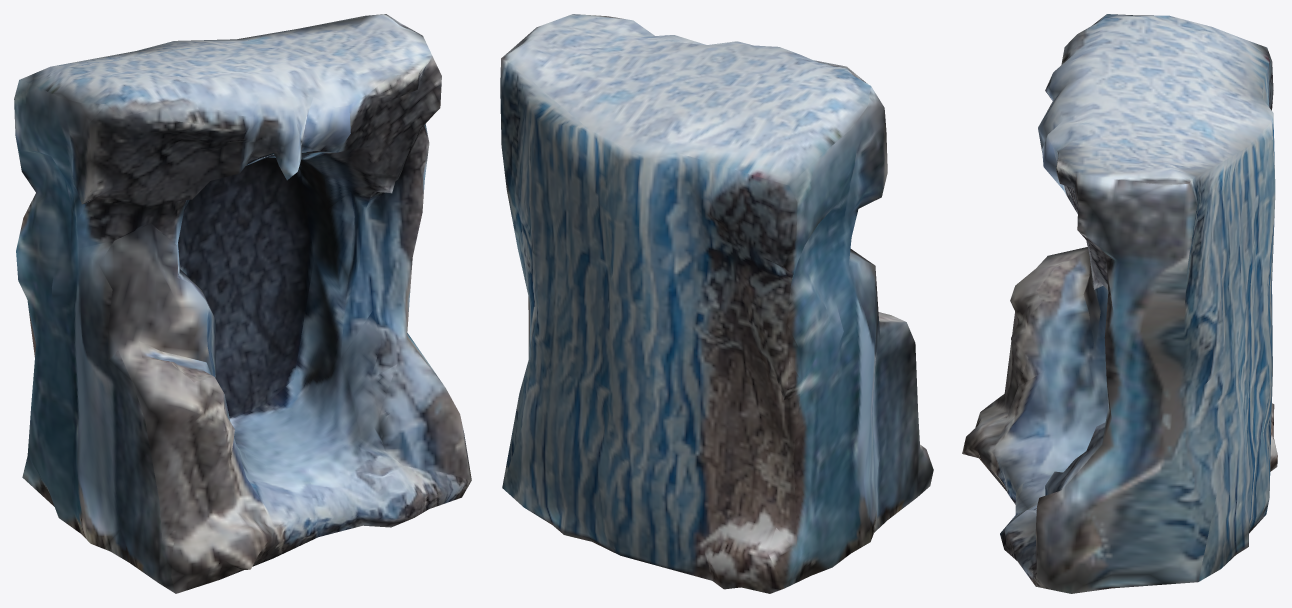
Rendered from FrozenCave_Wall.fbx.
3 renders of one model, left to right at view 1: azimuth 30°, elevation 25°; view 2: azimuth 150°, elevation 25°; view 3: azimuth 270°, elevation 25°, orthographic. The views are drawn at different scales.
Parts seen in each view (by area): view 1: FrozenCave_Wall_Mesh; view 2: FrozenCave_Wall_Mesh; view 3: FrozenCave_Wall_Mesh.
Part boxes in pixels (bbox=[...]): FrozenCave_Wall_Mesh: bbox=[14, 14, 471, 593]; FrozenCave_Wall_Mesh: bbox=[500, 14, 933, 593]; FrozenCave_Wall_Mesh: bbox=[962, 14, 1277, 593].
Bounding box in the file's own units: 6 × 7.34 × 4.84.
Materials: 1 (1 with a texture image).
